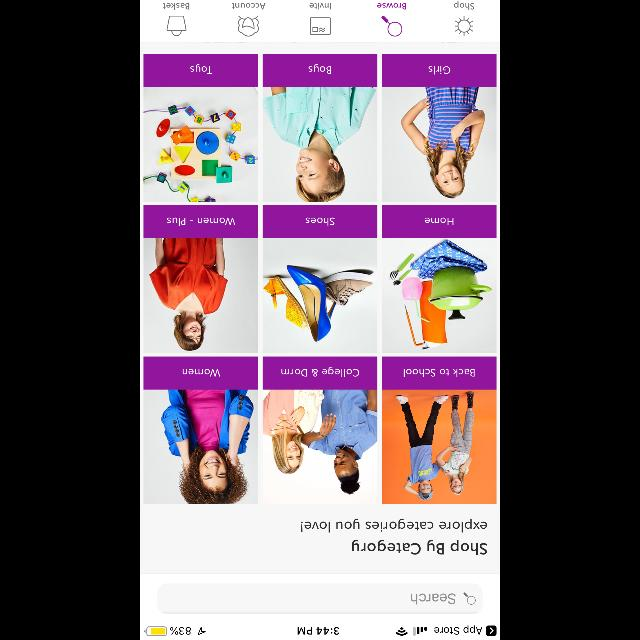icon: (382, 16, 402, 36), (166, 16, 186, 36), (310, 18, 330, 34), (462, 593, 476, 605)
image: (262, 390, 378, 504), (382, 86, 496, 202), (382, 390, 496, 504), (144, 390, 258, 504), (382, 239, 496, 353), (263, 238, 377, 352), (144, 239, 258, 353), (263, 87, 377, 201), (144, 87, 258, 201), (238, 16, 258, 36), (453, 16, 472, 36)
input: (158, 582, 482, 614)
text: (301, 518, 487, 534), (351, 539, 487, 555), (281, 367, 359, 378), (404, 368, 474, 378), (167, 218, 235, 226), (410, 594, 456, 604), (183, 368, 221, 376), (424, 217, 454, 225), (308, 64, 332, 74), (376, 2, 406, 10), (306, 218, 334, 226), (190, 64, 212, 74), (163, 2, 189, 10), (232, 4, 266, 10), (454, 1, 474, 10), (428, 66, 450, 74), (309, 4, 331, 10)
uppertaskbar: (140, 624, 500, 640)
